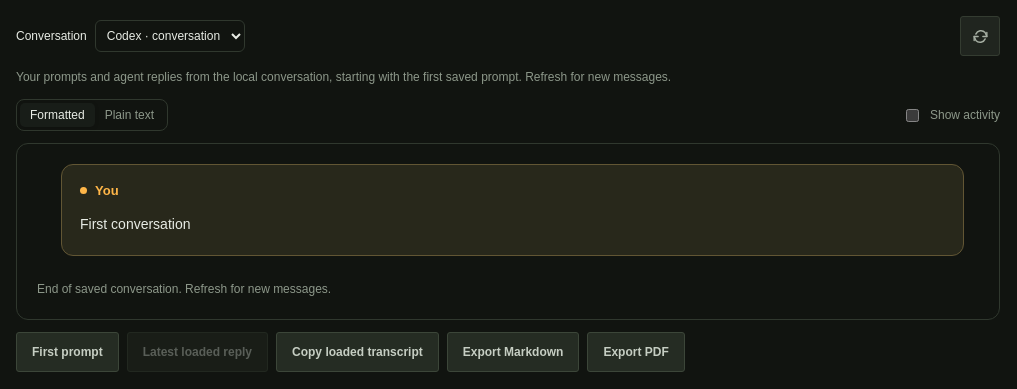
Scenario: AgentTranscript › cancels an export and ignores its late result when the selected conversation changes
This screenshot has width=1017, height=389.
Expected: the text "First conversation" is shown, [80, 216, 190, 232]
Click the button "Export Markdown" at (513, 352), box [447, 332, 579, 372]
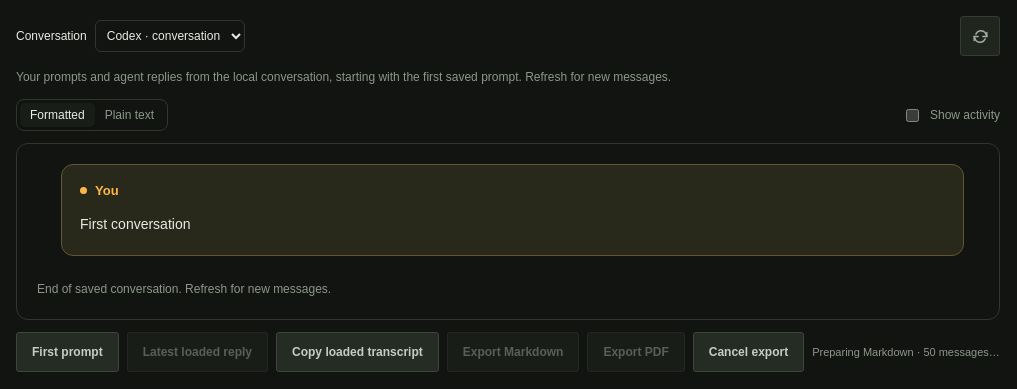
Expected: the text "Preparing Markdown · 50 messages…" is shown, [812, 346, 1000, 358]
Select "Claude · other" in the dropdown at (170, 36), box [95, 20, 245, 52]
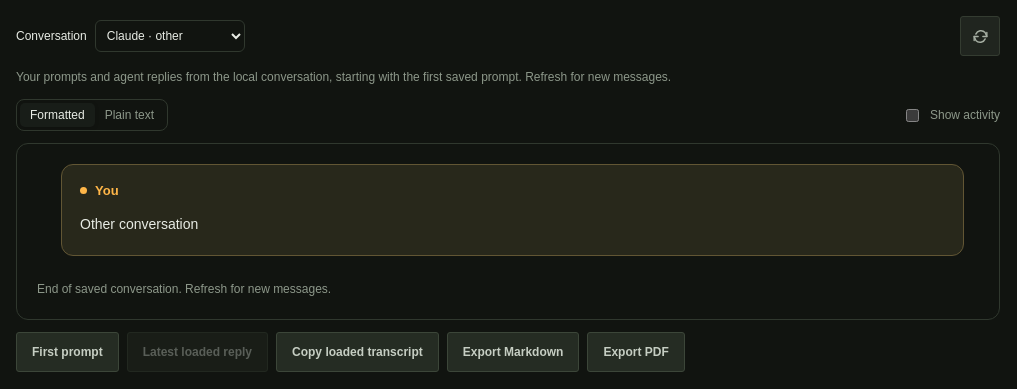
Expected: the text "Other conversation" is shown, [80, 216, 198, 232]
Expected: the button "Cancel export" is gone
